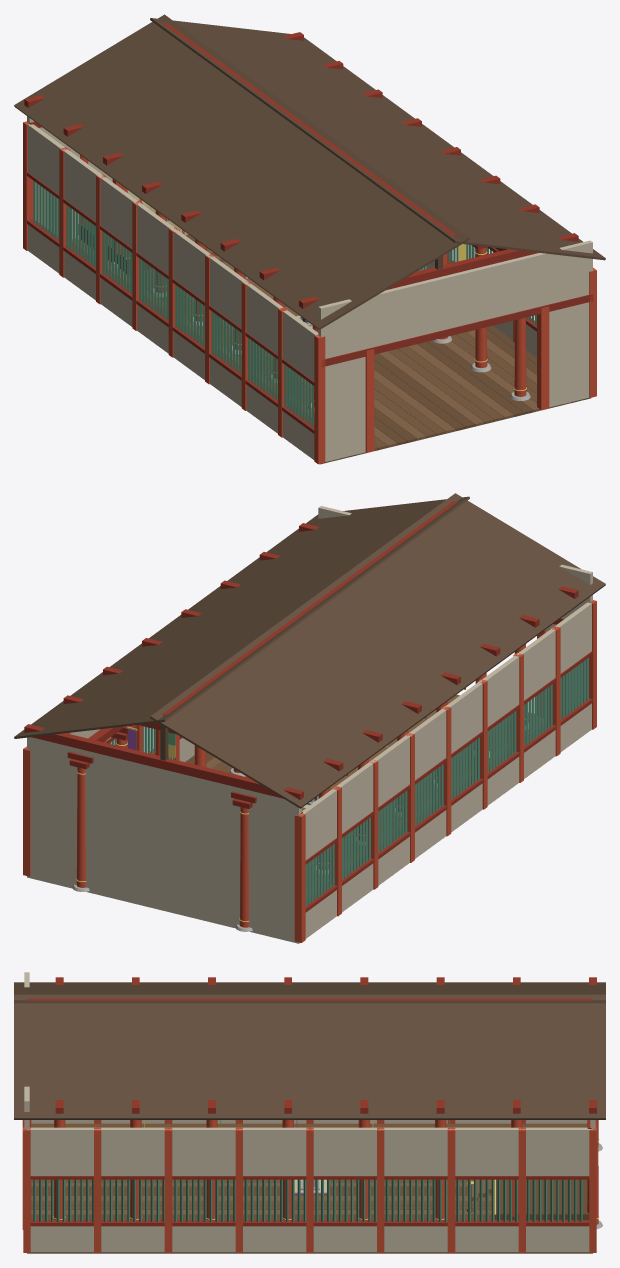
Rendered from kubi.glb.
3 views of the same model, one above another, from view 1: azimuth 30°, elevation 25°; view 2: azimuth 150°, elevation 25°; view 3: azimuth 270°, elevation 25° (orthographic). The views are drawn at different scales.
Parts seen in each view (by area): view 1: hall; view 2: hall; view 3: hall.
Boxes of the visible parts, box(x1,y1,x2,y2) form: hall: box(14, 14, 605, 464); hall: box(14, 493, 605, 943); hall: box(14, 972, 605, 1253).
Bounding box in the file's own units: 14.79 × 10.44 × 27.2.
